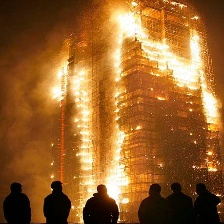fire: (107, 7, 223, 199), (49, 53, 100, 199)
